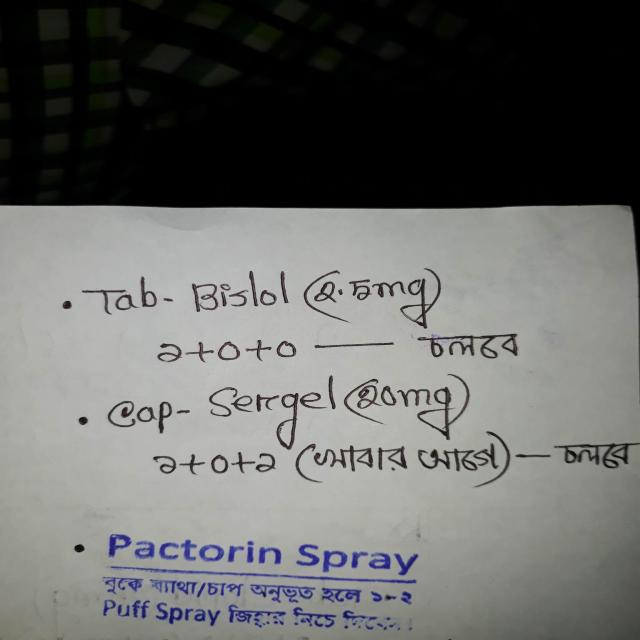Bislol: (182, 274, 298, 321)
Sergel: (204, 376, 341, 427)
